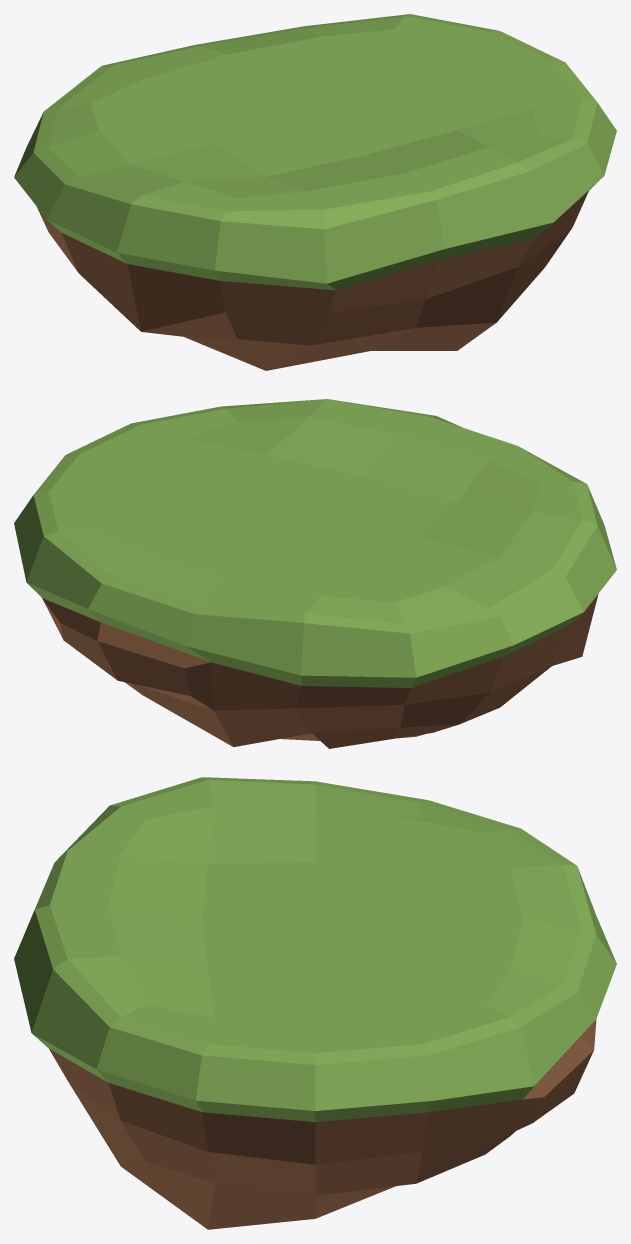
File: SolidPlatform.fbx
3 renders of one model, top to bottom at view 1: azimuth 30°, elevation 25°; view 2: azimuth 150°, elevation 25°; view 3: azimuth 270°, elevation 25°, orthographic. The views are drawn at different scales.
Visible parts, largest first — view 1: SolidPlatform; view 2: SolidPlatform; view 3: SolidPlatform.
Part boxes in pixels (x1=…): SolidPlatform: x1=14, y1=14, x2=616, y2=370; SolidPlatform: x1=14, y1=399, x2=616, y2=748; SolidPlatform: x1=14, y1=777, x2=616, y2=1229.
Bounding box in the file's own units: 286 × 121 × 239.
